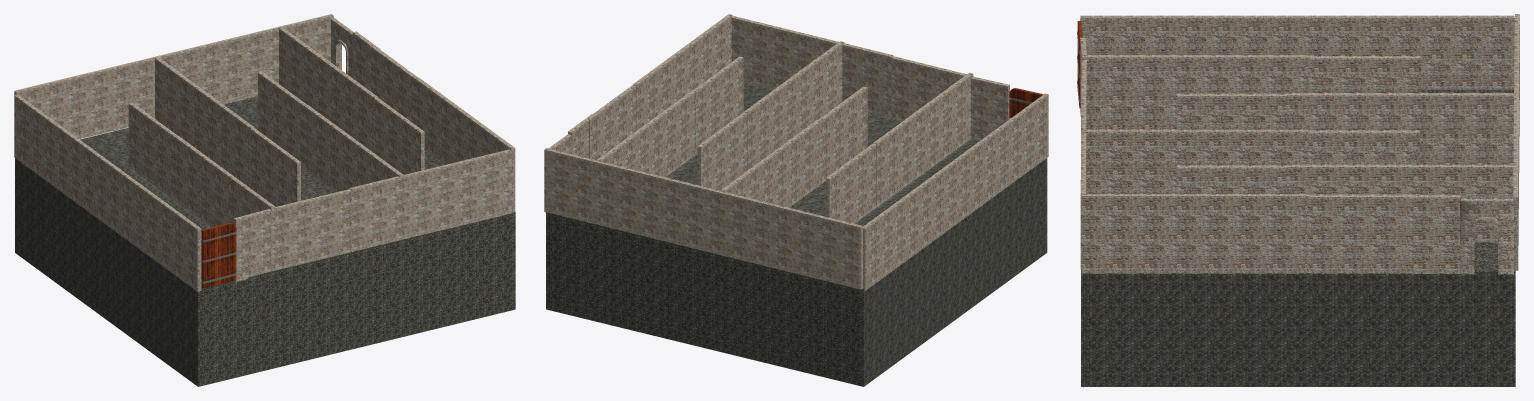
File: map_no_brain.obj
3 renders of one model, left to right at view 1: azimuth 30°, elevation 25°; view 2: azimuth 150°, elevation 25°; view 3: azimuth 270°, elevation 25°, orthographic. The views are drawn at different scales.
Parts seen in each view (by area): view 1: FloorBox, Box001.001, Box001.008, Box001.005, Box001.011_Box001.022, Box001.015_Box001.026, Box001.006, Box001.009_Box001.020, Box001.002, Box001.013_Box001.024, Box001.010_Box001.021, Box001.012_Box001.023 (+7 smaller); view 2: FloorBox, Box001.001, Box001.008, Box001.005, Box001.009_Box001.020, Box001.013_Box001.024, Box001.002, Box001.011_Box001.022, Box001.015_Box001.026, Box001.012_Box001.023, Box001.010_Box001.021, Box001.016_Box001.027 (+6 smaller); view 3: FloorBox, Box001.008, Box001.002, Box001.009_Box001.020, Box001.011_Box001.022, Box001.013_Box001.024, Box001.003, Box001.015_Box001.026, Box001.004, Box001.010_Box001.021, Box001.012_Box001.023, Box001.014_Box001.025 (+4 smaller).
Boxes of the visible parts, x1,y1,x2,y2 form: FloorBox: (15,96,515,386); Box001.001: (14,14,333,138); Box001.008: (14,94,201,291); Box001.005: (349,149,511,251); Box001.011_Box001.022: (154,57,254,187); Box001.015_Box001.026: (278,27,378,152); Box001.006: (269,189,351,271); Box001.009_Box001.020: (175,136,275,227); Box001.002: (415,78,515,212); Box001.013_Box001.024: (304,105,403,192); Box001.010_Box001.021: (128,102,178,199); Box001.012_Box001.023: (249,128,300,206); FloorBox: (546,83,1047,386); Box001.001: (544,148,862,289); Box001.008: (863,93,1048,290); Box001.005: (731,16,893,118); Box001.009_Box001.020: (873,72,973,207); Box001.013_Box001.024: (744,41,844,170); Box001.002: (632,14,732,130); Box001.011_Box001.022: (720,120,820,207); Box001.015_Box001.026: (597,89,696,177); Box001.012_Box001.023: (818,86,867,185); Box001.010_Box001.021: (825,144,876,223); Box001.016_Box001.027: (694,56,743,154); FloorBox: (1081,89,1515,386); Box001.008: (1080,15,1514,89); Box001.002: (1082,194,1309,273); Box001.009_Box001.020: (1082,55,1309,129); Box001.011_Box001.022: (1286,93,1514,164); Box001.013_Box001.024: (1082,129,1309,193); Box001.003: (1307,194,1419,273); Box001.015_Box001.026: (1286,164,1514,242); Box001.004: (1404,195,1460,273); Box001.010_Box001.021: (1308,56,1421,92); Box001.012_Box001.023: (1176,93,1286,129); Box001.014_Box001.025: (1307,130,1419,164).
Size of the model in its own units: 517 by 248 by 522.
